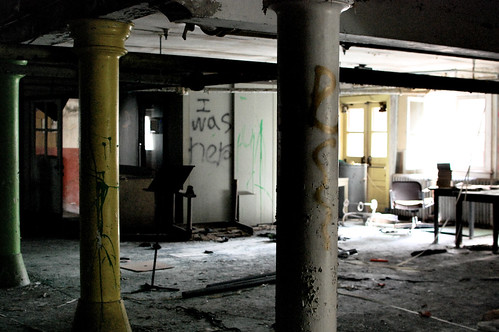chair: (382, 179, 433, 229)
collumn: (263, 1, 355, 330), (63, 27, 144, 327)
graffiti: (182, 94, 230, 182)
